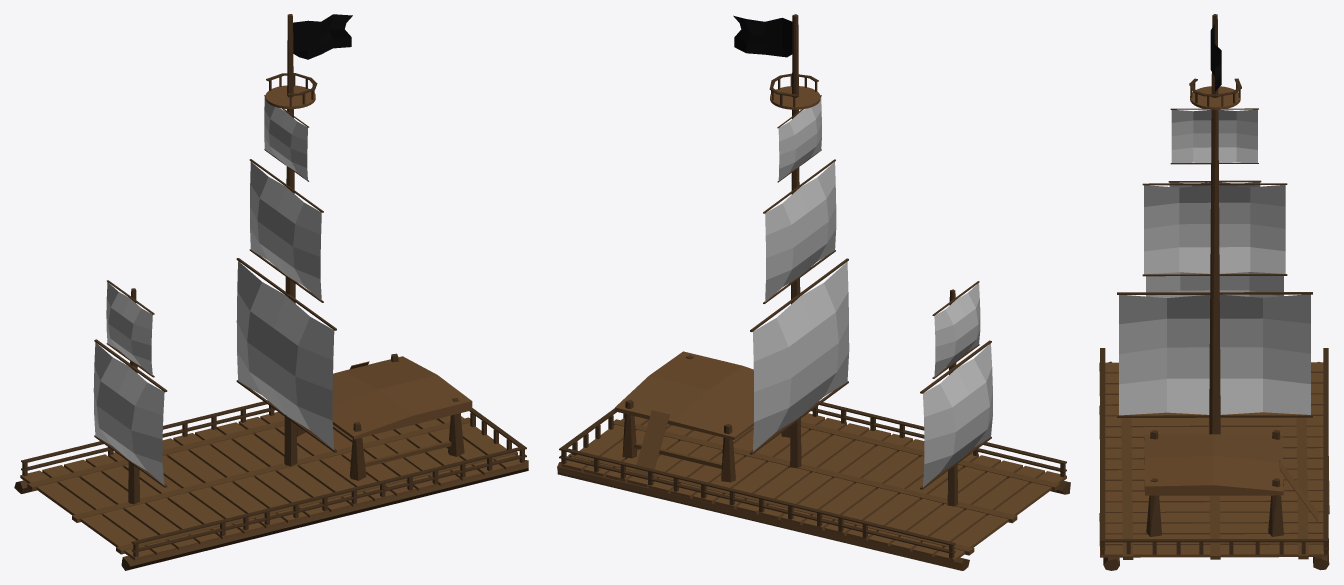
File: BarbsRaft.obj
The picture shows the model from 3 angles, left to right: view 1: azimuth 30°, elevation 25°; view 2: azimuth 150°, elevation 25°; view 3: azimuth 270°, elevation 25°; orthographic projection.
Visible parts, largest first — view 1: Sail, Cube.060, Sail.003, Sail.001, Cylinder.002, Sail.004, Sail.002, Cube.036, Cube.013, Cube.037, Cube.008, Cube.007 (+24 smaller); view 2: Sail, Cube.060, Sail.003, Sail.001, Cylinder.004, Sail.004, Sail.002, Cube.013, Cube.036, Cube.037, Cube.014, Cube.008 (+24 smaller); view 3: Sail, Sail.001, Cube.060, Sail.002, Cylinder.007, Sail.003, Cube.039, Cube.041, Cube.002, Cube.038, Cube.010, Cube.004 (+26 smaller).
Boxes of the visible parts, x1,y1,x2,y2 form: Sail: (236, 261, 334, 449); Cube.060: (332, 356, 472, 439); Sail.003: (93, 342, 164, 485); Sail.001: (250, 161, 321, 300); Cylinder.002: (121, 460, 528, 570); Sail.004: (106, 282, 152, 375); Sail.002: (264, 96, 307, 180); Cube.036: (72, 417, 470, 522); Cube.013: (20, 470, 154, 560); Cube.037: (42, 465, 176, 555); Cube.008: (195, 428, 328, 517); Cube.007: (216, 422, 350, 512); Sail: (753, 262, 849, 451); Cube.060: (615, 351, 753, 439); Sail.003: (923, 343, 992, 487); Sail.001: (765, 162, 836, 301); Cylinder.004: (557, 462, 969, 570); Sail.004: (934, 283, 980, 377); Sail.002: (778, 97, 821, 180); Cube.013: (934, 471, 1066, 561); Cube.036: (613, 419, 1017, 523); Cube.037: (912, 466, 1044, 556); Cube.014: (890, 460, 1022, 551); Cube.008: (758, 429, 890, 519); Sail: (1119, 294, 1310, 415); Sail.001: (1144, 185, 1285, 274); Cube.060: (1144, 434, 1283, 495); Sail.002: (1171, 109, 1257, 162); Cylinder.007: (1209, 14, 1220, 434); Sail.003: (1146, 272, 1283, 297); Cube.039: (1100, 544, 1328, 557); Cube.041: (1099, 512, 1323, 523); Cube.002: (1099, 416, 1323, 427); Cube.038: (1099, 523, 1323, 534); Cube.010: (1105, 502, 1329, 514); Cube.004: (1099, 426, 1323, 438).
Size of the model in its own units: 21.76 by 23.72 by 10.61.
